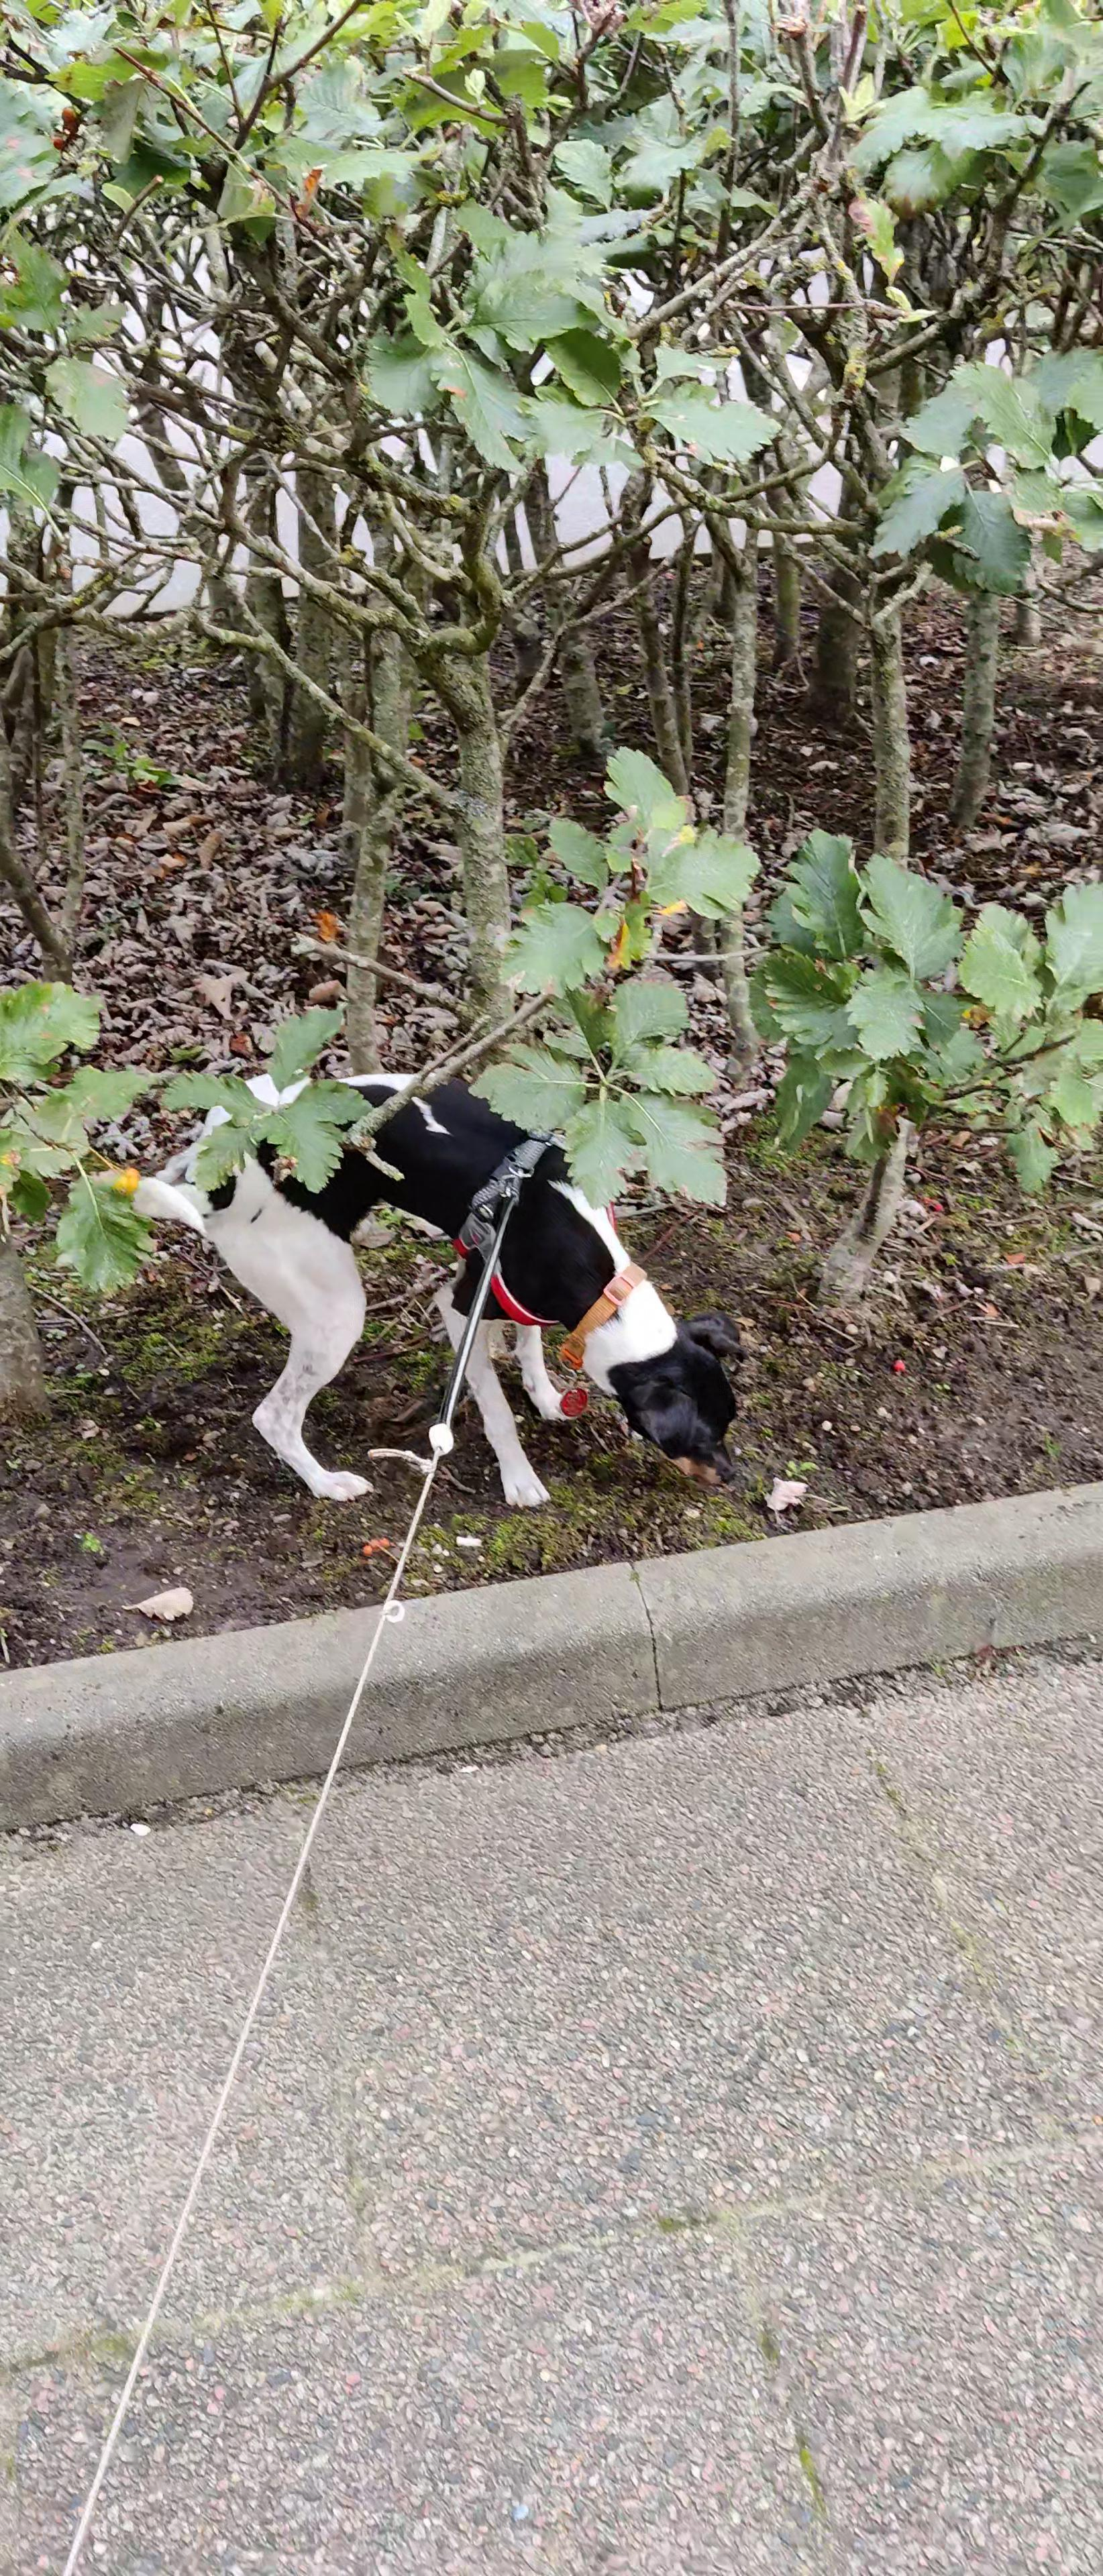Dog: (120, 1050, 751, 1508)
